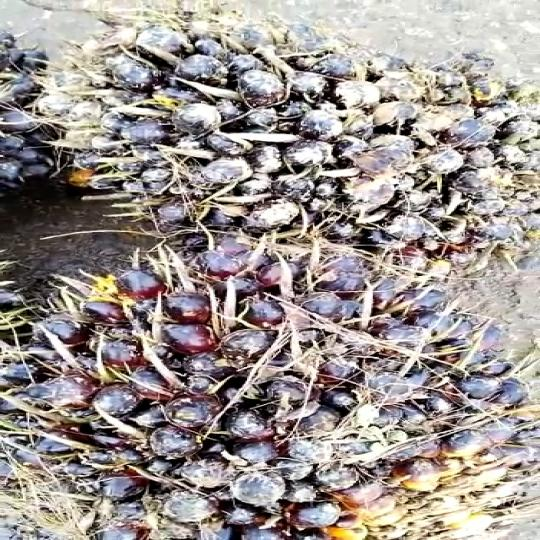mentah: (13, 237, 540, 540), (50, 2, 540, 268)
